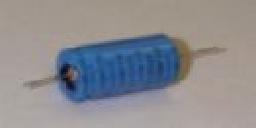Electrolytic-Capacitor: (26, 33, 230, 104)
